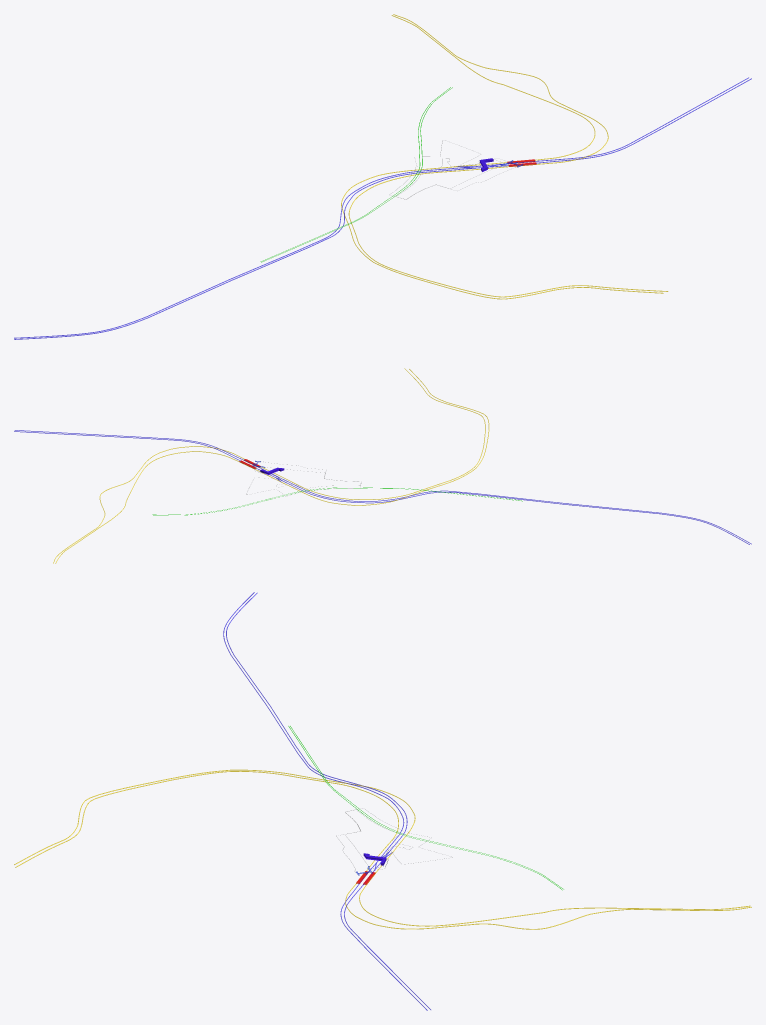
File: MODEL_LAYERS.fbx
3 renders of one model, top to bottom at view 1: azimuth 30°, elevation 25°; view 2: azimuth 150°, elevation 25°; view 3: azimuth 270°, elevation 25°, orthographic. The views are drawn at different scales.
Visible parts, largest first — view 1: L_Subway_Solncevskaya, L_Subway_ArbatPokrovsk; view 2: L_Subway_ArbatPokrovsk, L_Subway_Solncevskaya, L_RZD_traffic; view 3: L_Subway_Solncevskaya, L_Subway_ArbatPokrovsk.
Boxes of the visible parts, x1,y1,x2,y2 form: L_Subway_Solncevskaya: (341, 14, 668, 299); L_Subway_ArbatPokrovsk: (14, 77, 751, 339); L_Subway_ArbatPokrovsk: (14, 430, 751, 544); L_Subway_Solncevskaya: (53, 368, 489, 563); L_RZD_traffic: (152, 487, 522, 515); L_Subway_Solncevskaya: (14, 769, 751, 929); L_Subway_ArbatPokrovsk: (223, 592, 430, 1010).
Bounding box in the file's own units: 5891 × 31.02 × 4394.
